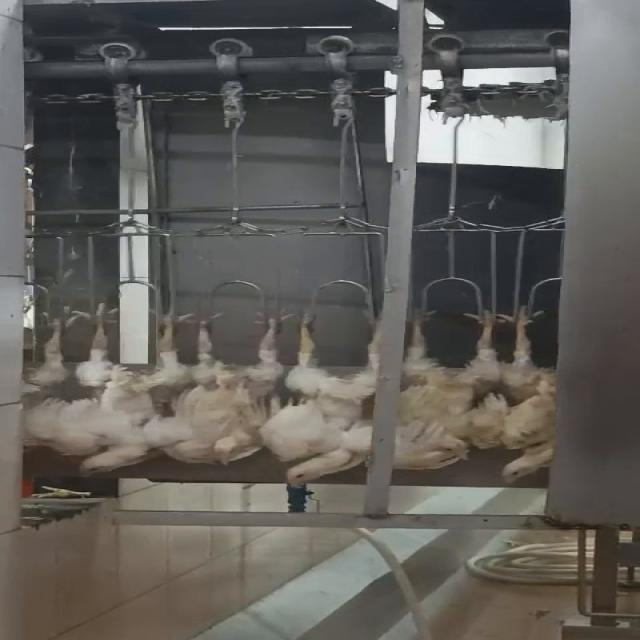chicken: (252, 307, 394, 494), (68, 304, 190, 478), (158, 304, 286, 468), (384, 307, 491, 475), (484, 297, 576, 488), (5, 295, 96, 455)
